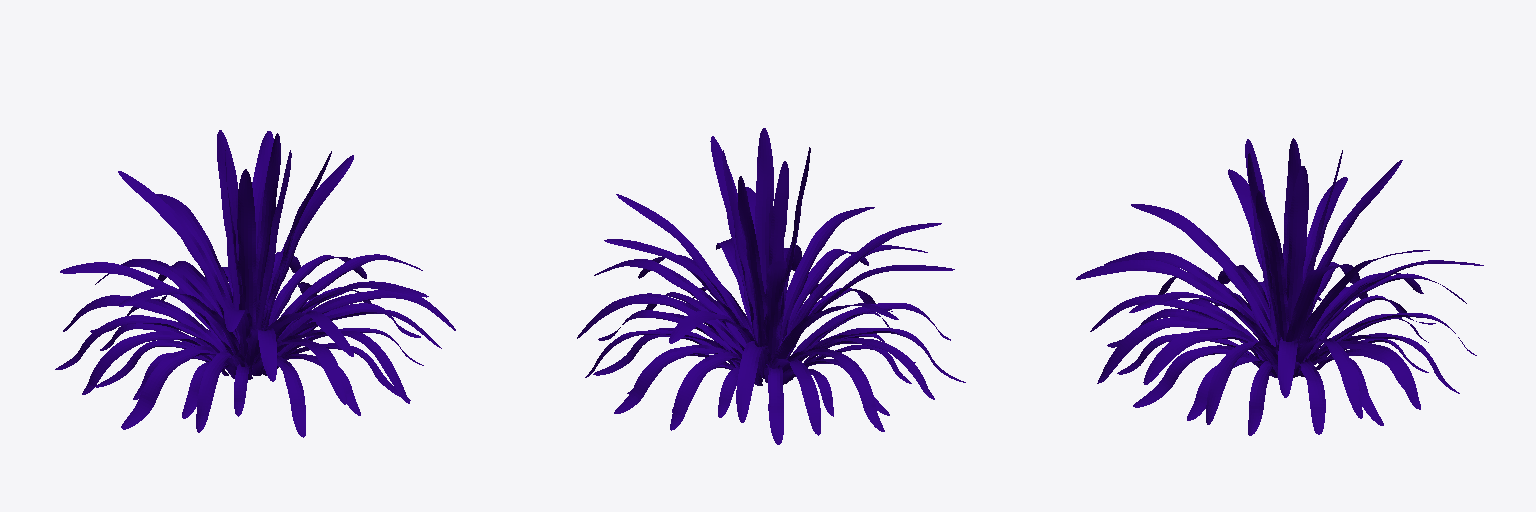
File: Phormium_3.obj
The picture shows the model from 3 angles: view 1: azimuth 30°, elevation 25°; view 2: azimuth 150°, elevation 25°; view 3: azimuth 270°, elevation 25°; orthographic projection.
Parts seen in each view (by area): view 1: Phormium_tenax_A003; view 2: Phormium_tenax_A003; view 3: Phormium_tenax_A003.
Part boxes in pixels (left/top/right/bottom): Phormium_tenax_A003: left=55, top=130, right=455, bottom=437; Phormium_tenax_A003: left=577, top=128, right=965, bottom=444; Phormium_tenax_A003: left=1076, top=138, right=1483, bottom=435.
Size of the model in its own units: 11.66 by 7.35 by 12.1.